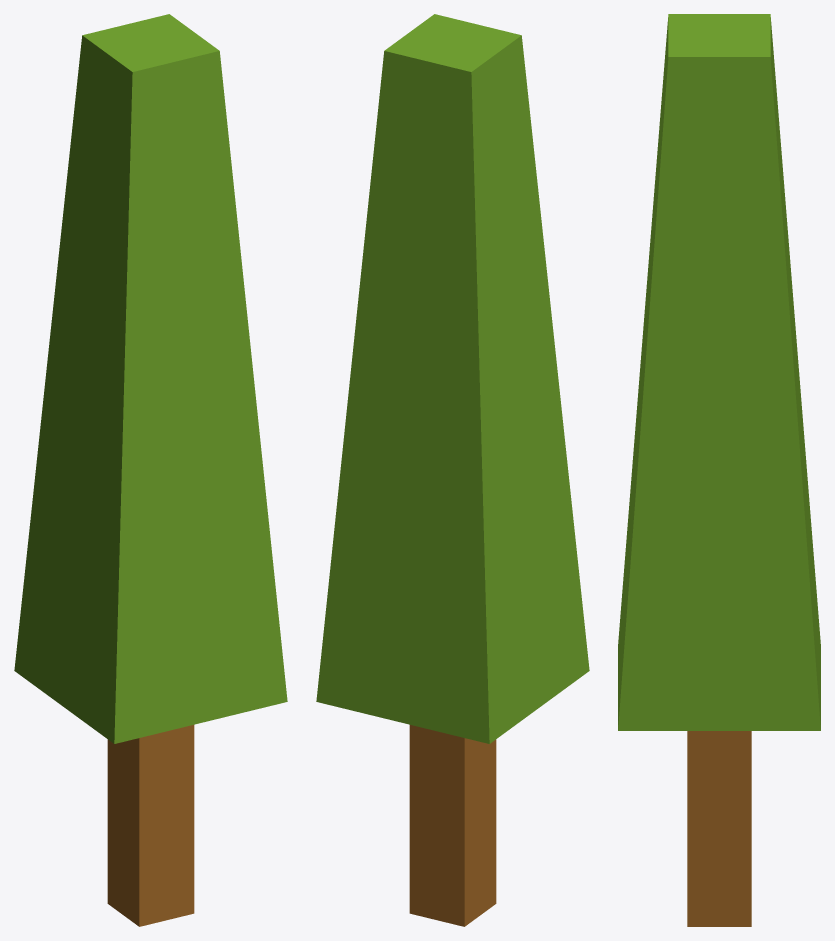
The model's file is tree_02.fbx.
3 renders of one model, left to right at view 1: azimuth 30°, elevation 25°; view 2: azimuth 150°, elevation 25°; view 3: azimuth 270°, elevation 25°, orthographic.
Parts seen in each view (by area): view 1: tree_02; view 2: tree_02; view 3: tree_02.
Part boxes in pixels (x1,y1,x2,y2): tree_02: (14, 14, 287, 926); tree_02: (316, 14, 589, 926); tree_02: (618, 14, 820, 926).
Size of the model in its own units: 0.8155 by 3.89 by 0.8155.
